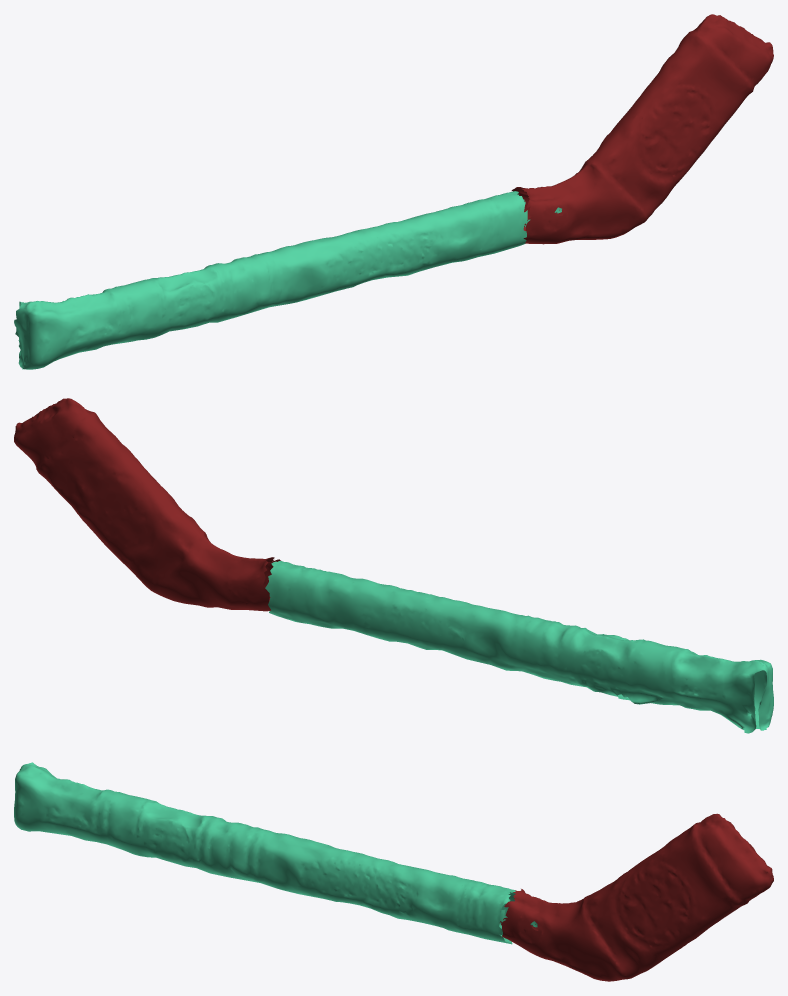
The model's file is object_deformed_5.obj.
3 renders of one model, top to bottom at view 1: azimuth 30°, elevation 25°; view 2: azimuth 150°, elevation 25°; view 3: azimuth 330°, elevation 25°, orthographic. The views are drawn at different scales.
Size of the model in its own units: 0.6246 by 0.1478 by 0.0466.
